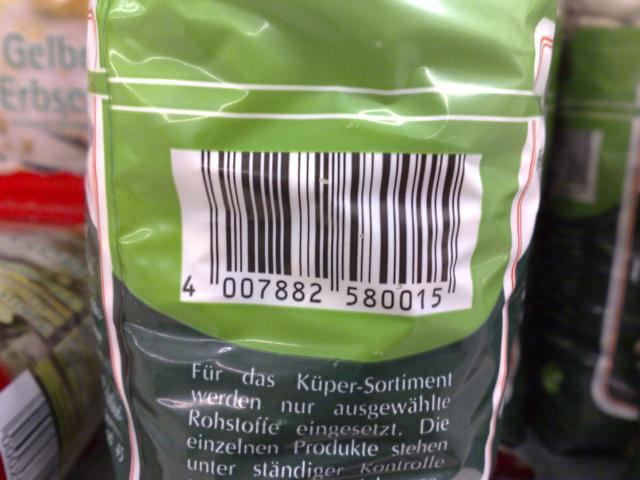Barkod: (197, 147, 469, 281)
